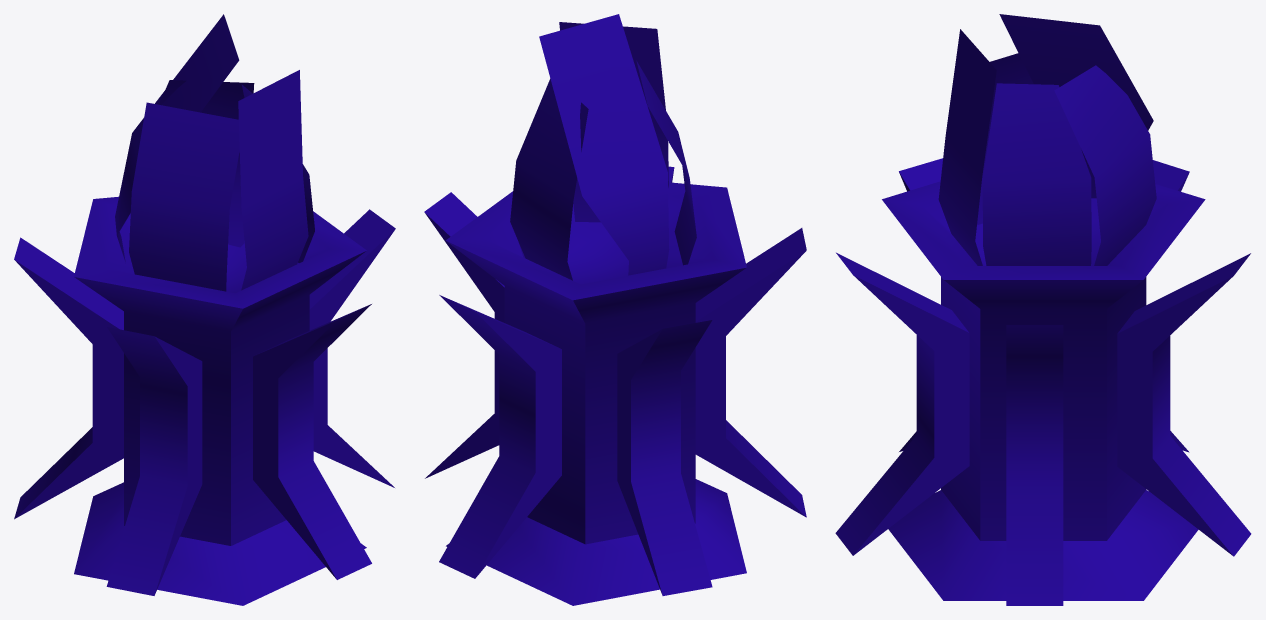
Rendered from CG_Model_TownInt_Pot1_Mar24_ChrisMcknight.FBX.
3 views of the same model, side by side, from view 1: azimuth 30°, elevation 25°; view 2: azimuth 150°, elevation 25°; view 3: azimuth 270°, elevation 25° (orthographic). The views are drawn at different scales.
Visible parts, largest first — view 1: Pot1; view 2: Pot1; view 3: Pot1.
Boxes of the visible parts, x1=… form: Pot1: x1=14, y1=14, x2=395, y2=605; Pot1: x1=424, y1=14, x2=806, y2=605; Pot1: x1=835, y1=14, x2=1251, y2=605.
Bounding box in the file's own units: 6.26 × 9.36 × 6.56.
